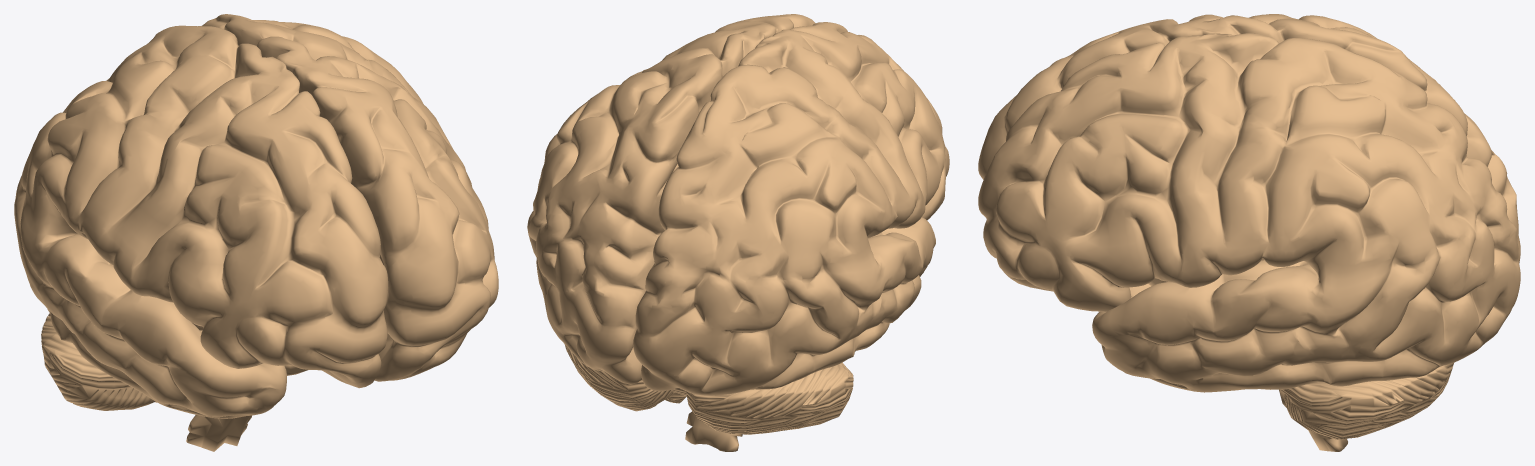
3 renders of one model, left to right at view 1: azimuth 30°, elevation 25°; view 2: azimuth 150°, elevation 25°; view 3: azimuth 270°, elevation 25°, orthographic. The views are drawn at different scales.
Visible parts, largest first — view 1: Brain_Part_06, Brain_Part_04, Brain_Part_02, Brain_Part_05; view 2: Brain_Part_06, Brain_Part_04, Brain_Part_02, Brain_Part_05; view 3: Brain_Part_04, Brain_Part_06, Brain_Part_02, Brain_Part_05.
Part boxes in pixels (<box>): Brain_Part_06: <box>14,25,388,418</box>; Brain_Part_04: <box>202,14,498,381</box>; Brain_Part_02: <box>41,313,156,410</box>; Brain_Part_05: <box>186,323,251,451</box>; Brain_Part_06: <box>633,22,949,395</box>; Brain_Part_04: <box>527,14,815,384</box>; Brain_Part_02: <box>564,344,853,434</box>; Brain_Part_05: <box>685,411,742,451</box>; Brain_Part_04: <box>978,33,1520,392</box>; Brain_Part_06: <box>978,14,1520,263</box>; Brain_Part_02: <box>1281,363,1453,439</box>; Brain_Part_05: <box>1148,258,1347,451</box>.
Size of the model in its own units: 1.06 by 1.12 by 1.32.
